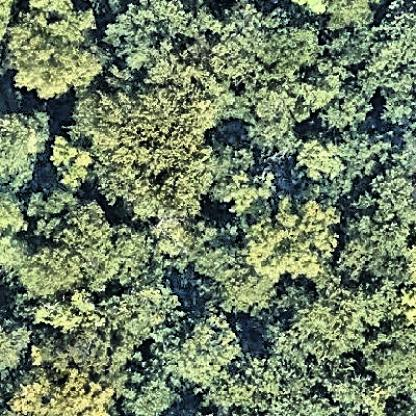tree-top: (81, 83, 224, 186), (19, 193, 118, 297), (96, 2, 217, 78), (211, 4, 318, 85), (8, 15, 104, 102), (245, 196, 341, 283), (283, 288, 379, 362), (160, 310, 241, 391), (189, 240, 270, 320), (342, 207, 416, 284), (224, 353, 321, 411), (15, 365, 121, 416), (209, 142, 273, 216), (105, 285, 176, 349), (365, 318, 416, 405), (1, 105, 55, 187), (245, 93, 306, 156), (112, 360, 178, 416), (33, 289, 106, 338), (47, 131, 100, 195), (295, 129, 353, 183), (306, 1, 387, 32), (322, 86, 373, 132), (330, 24, 380, 68), (1, 314, 32, 380), (69, 335, 110, 374)
